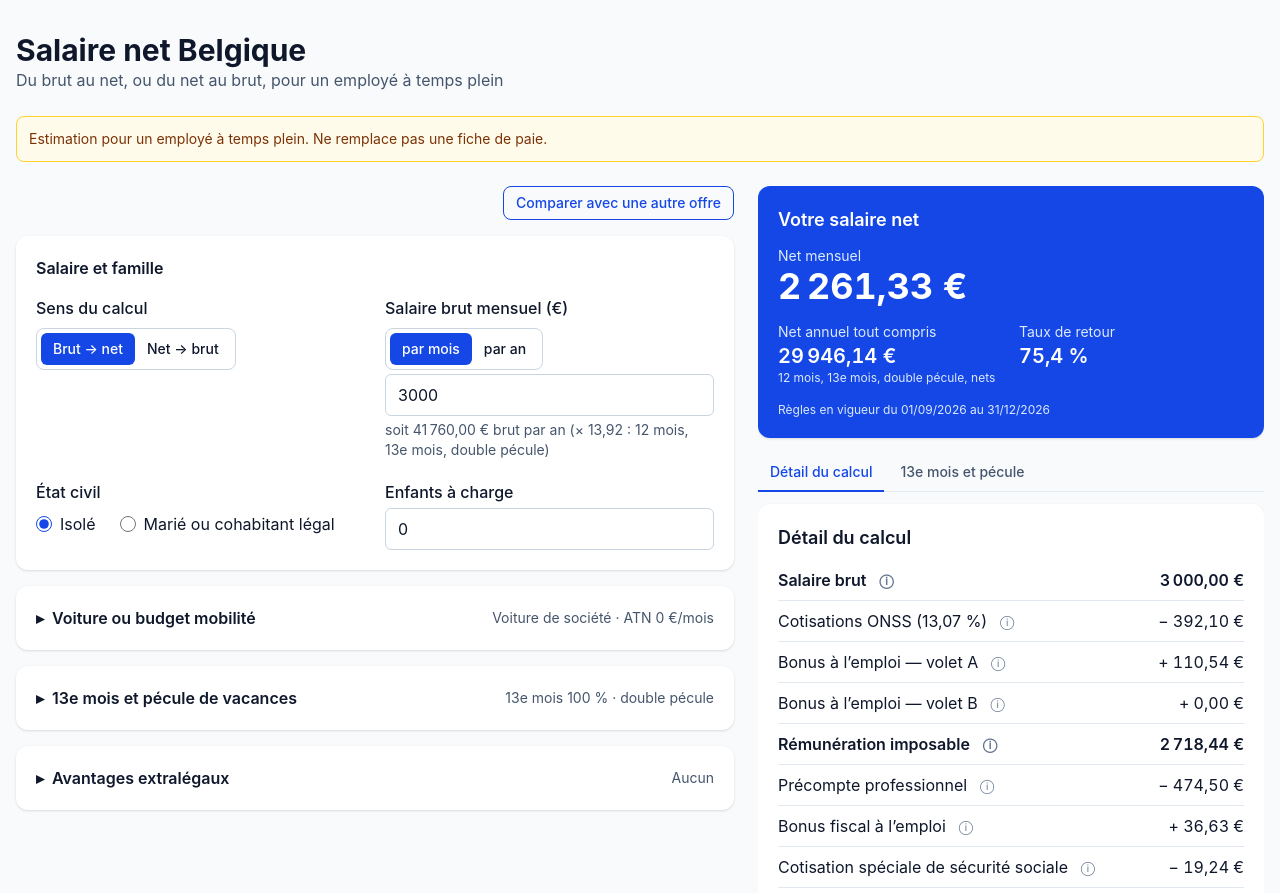
App — avantages extralégaux › n’affiche les champs d’un avantage qu’une fois coché
The width and height of the screenshot is (1280, 893).
What coordinates should you click on to do the following:
click the button "▸ Avantages extralégaux Aucun"
I would click on:
 (141, 778)
Its box is [16,746,734,810].
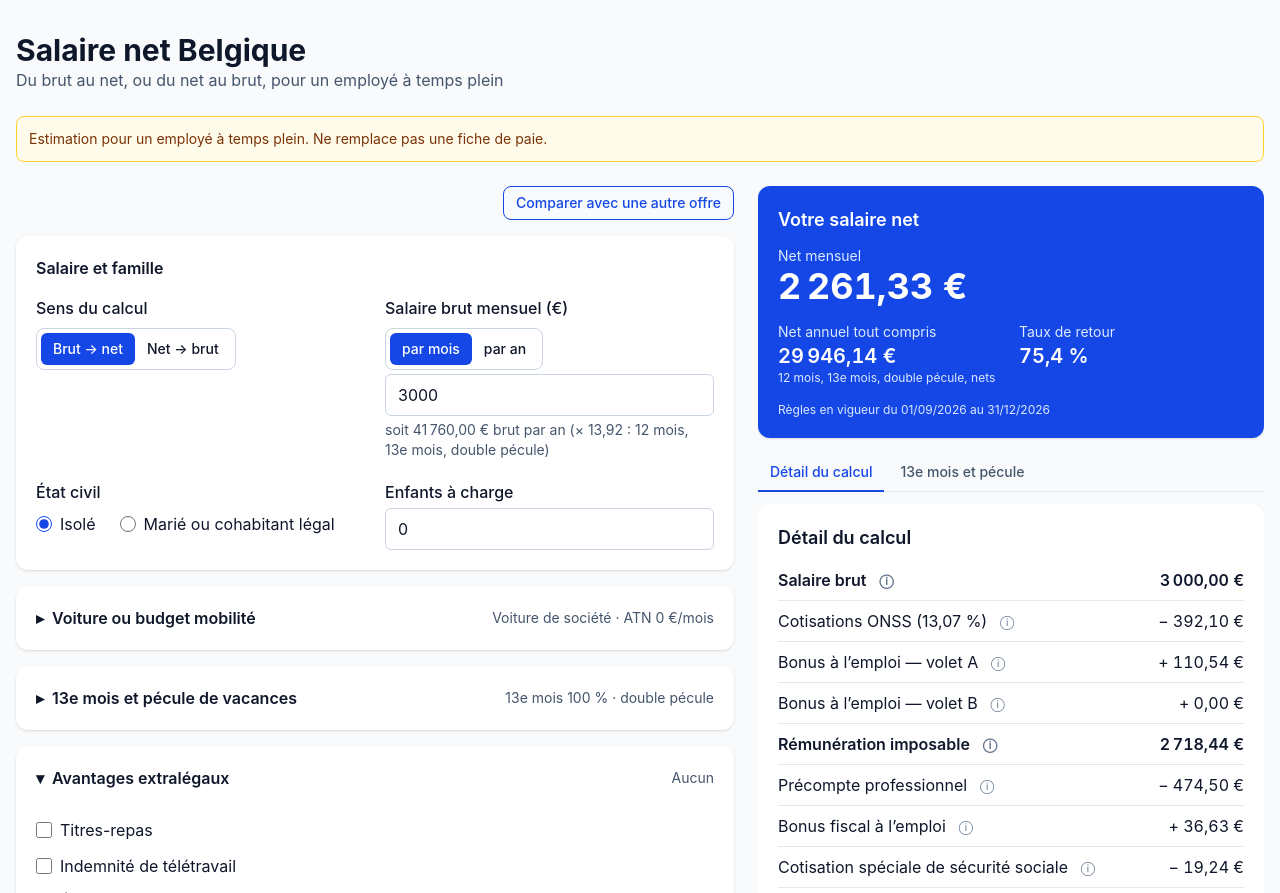
Expected: the field labelled "Jours prestés dans le mois" is not shown
What coordinates should you click on to do the following:
click the checkbox labelled "Titres-repas"
I would click on:
 (44, 830)
Its box is [36,822,52,838].
(page scrolled)
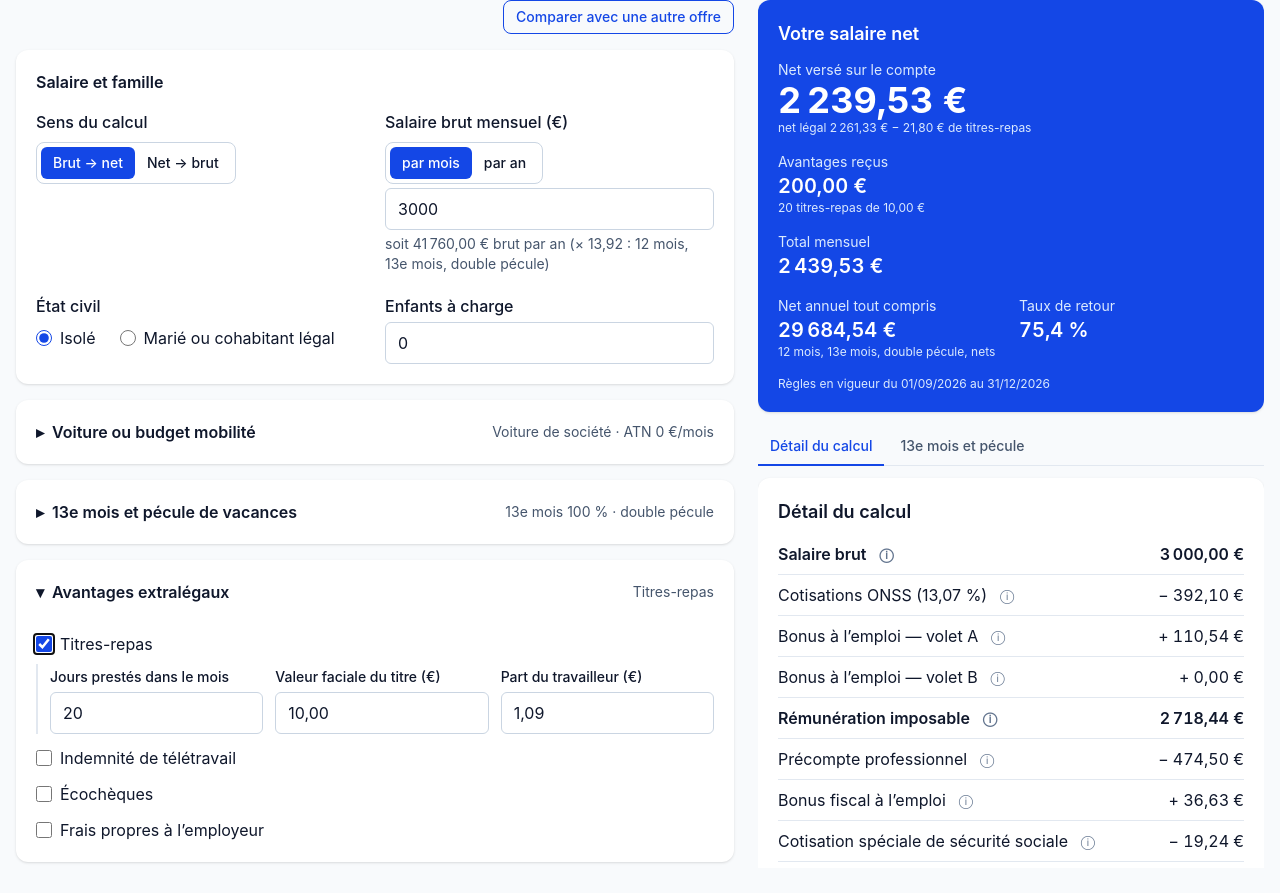
Result: the field labelled "Jours prestés dans le mois" holds "20" at [50,692,263,734]
Result: the field labelled "Valeur faciale du titre (€)" holds "10,00" at [275,692,489,734]
Result: the field labelled "Part du travailleur (€)" holds "1,09" at [501,692,714,734]
